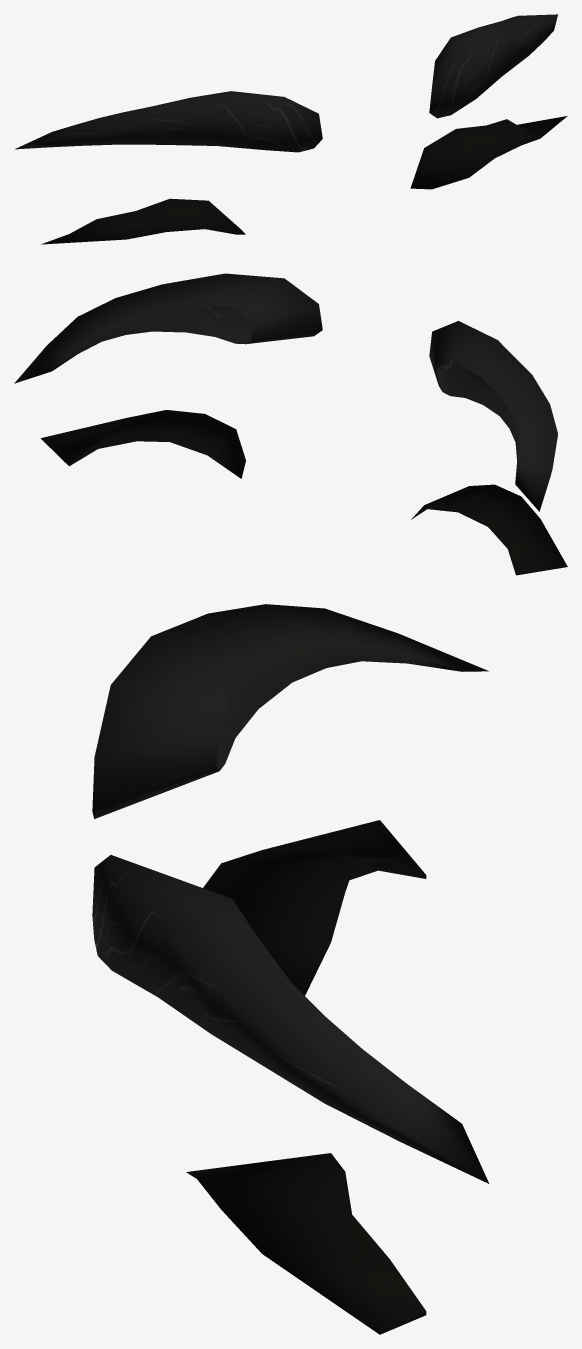
The model's file is brous5.fbx.
3 views of the same model, one above another, from view 1: azimuth 30°, elevation 25°; view 2: azimuth 150°, elevation 25°; view 3: azimuth 270°, elevation 25° (orthographic). The views are drawn at different scales.
Parts seen in each view (by area): view 1: brous5; view 2: brous5; view 3: brous5.
Boxes of the visible parts, bbox=[...] form: brous5: bbox=[15, 14, 567, 244]; brous5: bbox=[14, 273, 567, 575]; brous5: bbox=[92, 604, 489, 1334].
Size of the model in its own units: 11.14 by 3.37 by 3.63.
